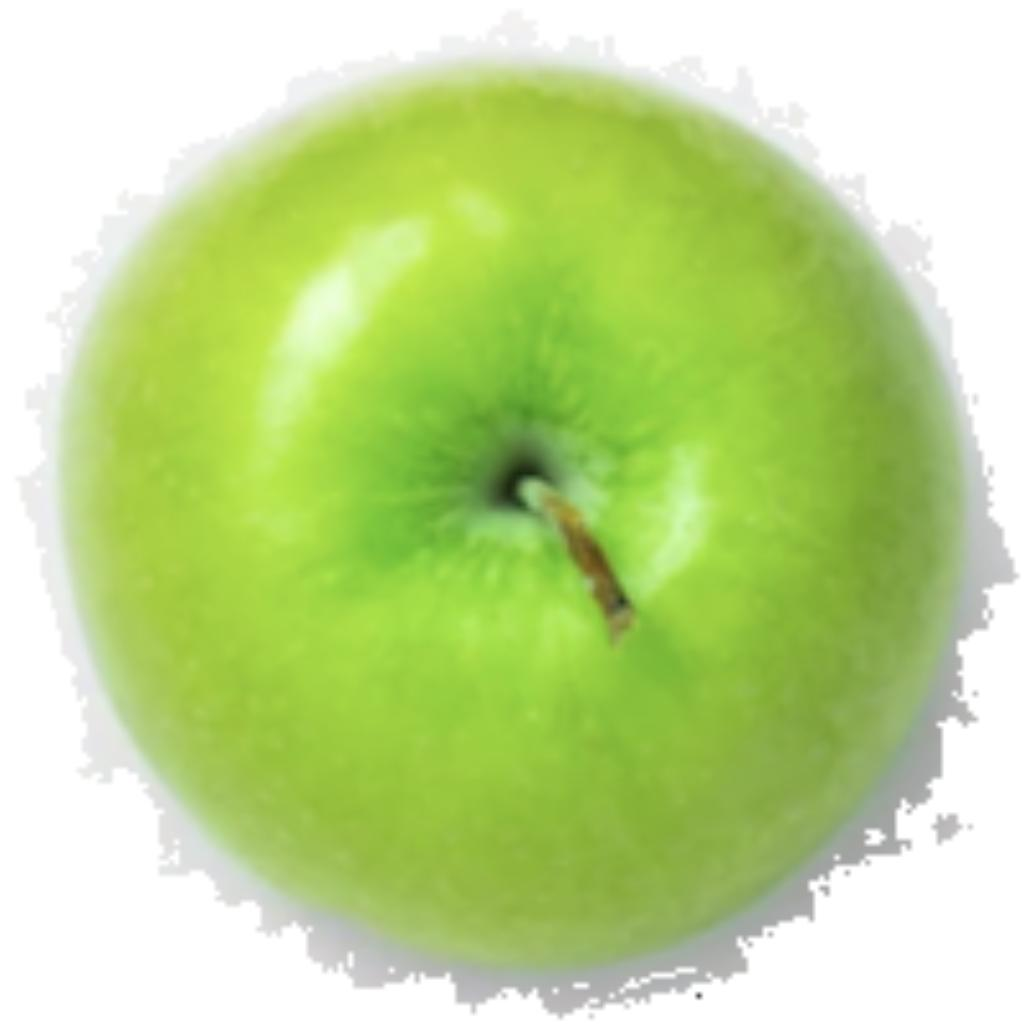apple: (10, 5, 1019, 1019)
